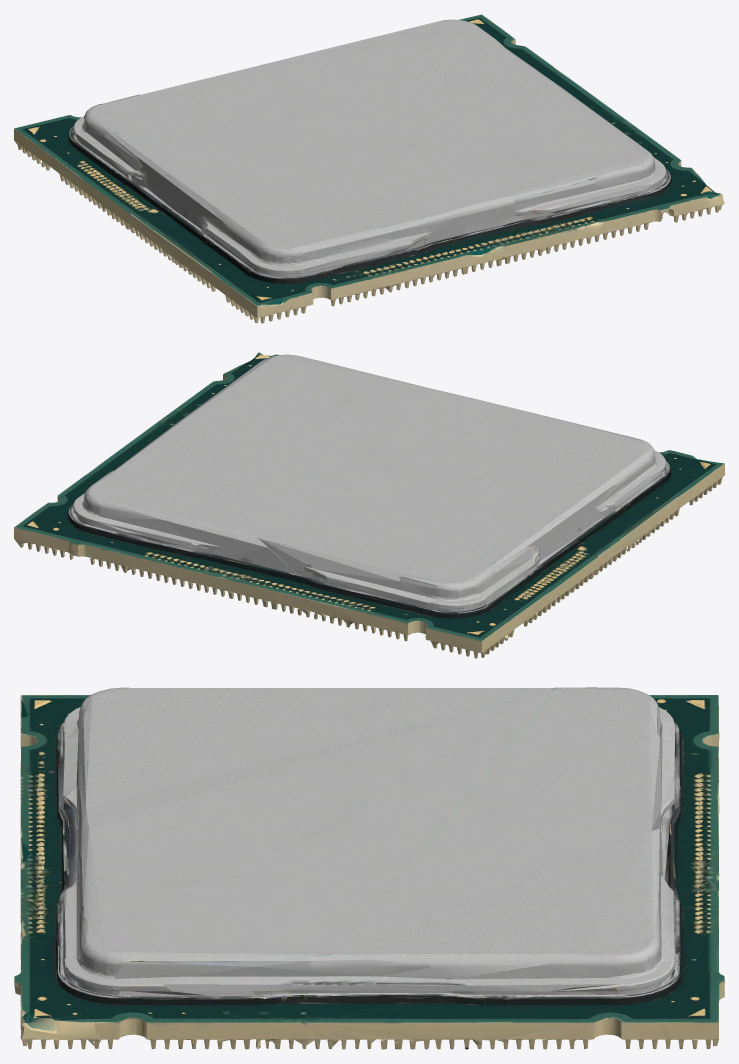
File: cpu.glb
The picture shows the model from 3 angles, top to bottom: view 1: azimuth 30°, elevation 25°; view 2: azimuth 150°, elevation 25°; view 3: azimuth 270°, elevation 25°; orthographic projection. The views are drawn at different scales.
Parts seen in each view (by area): view 1: Mesh_0; view 2: Mesh_0; view 3: Mesh_0.
Part boxes in pixels (x1=…): Mesh_0: x1=14, y1=14, x2=724, y2=323; Mesh_0: x1=14, y1=352, x2=724, y2=658; Mesh_0: x1=14, y1=687, x2=724, y2=1049.
Size of the model in its own units: 1.9 by 0.178 by 1.74.
1 material, 1 textured.
